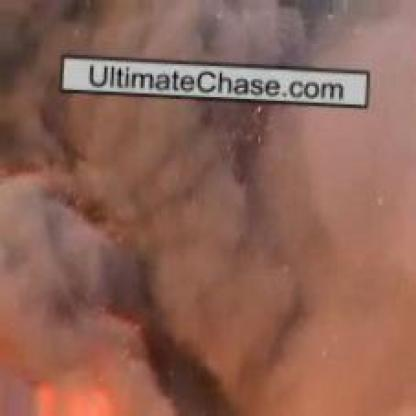smoke: (28, 14, 403, 386)
